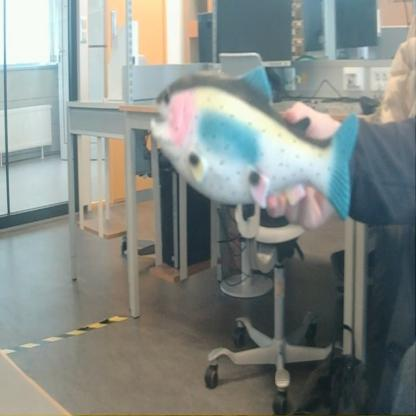rubberfish: (148, 62, 362, 226)
